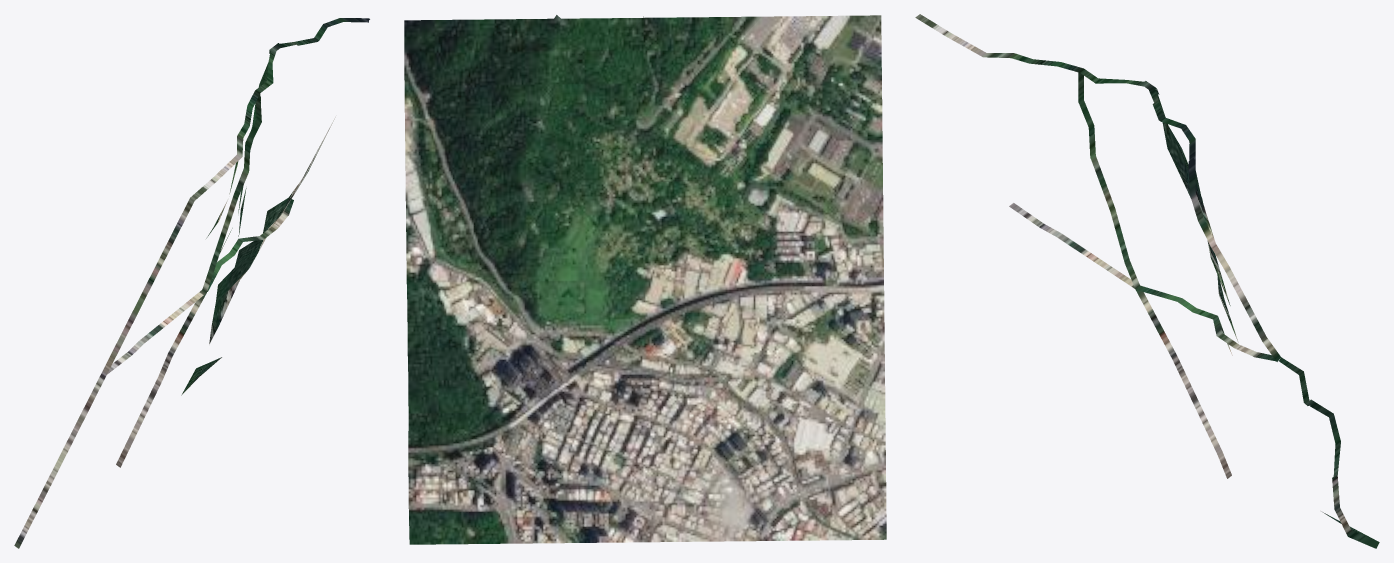
The picture shows the model from 3 angles, left to right: view 1: azimuth 30°, elevation 25°; view 2: azimuth 150°, elevation 25°; view 3: azimuth 270°, elevation 25°; orthographic projection. The views are drawn at different scales.
Bounding box in the file's own units: 1184 × 1198 × 1091.
Materials: 1 (1 with a texture image).
